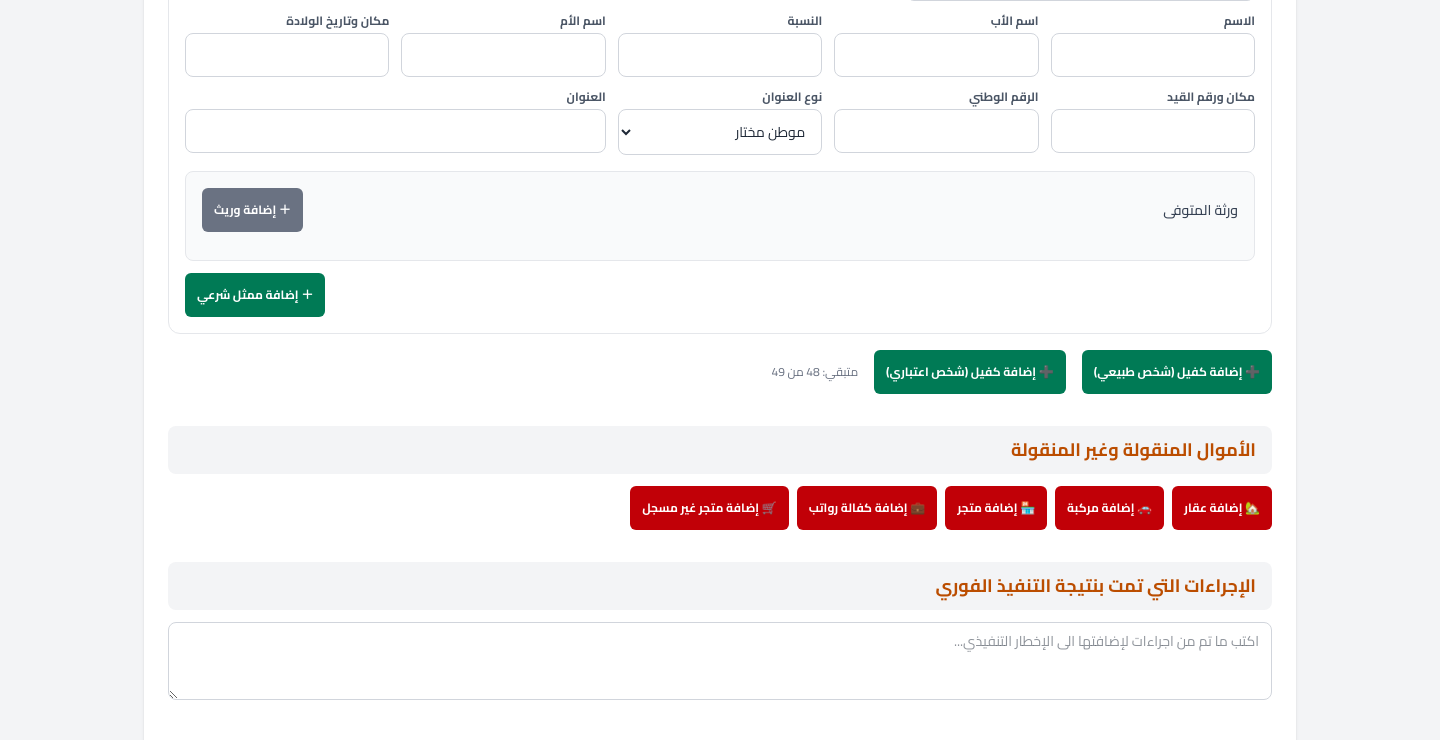
Test: DocumentForm · ربط الأطراف بالسجل › يضيف كفيلًا اعتباريًا عبر زر «إضافة كفيل (شخص اعتباري)» ويعرض حقوله
(page scrolled)
Click the button "➕ إضافة كفيل (شخص اعتباري)" at [970, 372], box [874, 350, 1066, 394]
(page scrolled)
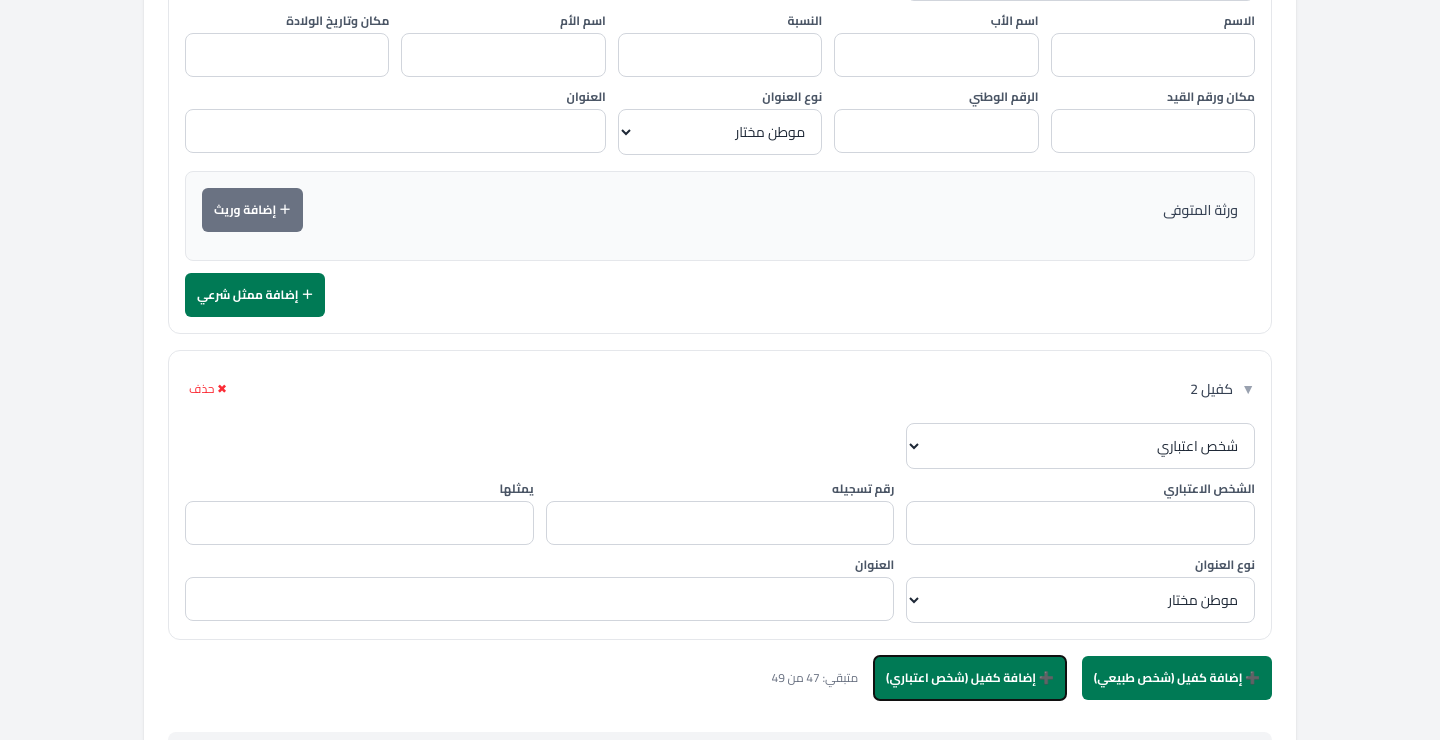
Result: the text "الشخص الاعتباري" is shown at [1164, 477, 1255, 500]
Result: the text "رقم تسجيله" is shown at [832, 477, 894, 500]
Result: the text "يمثلها" is shown at [499, 477, 534, 500]
